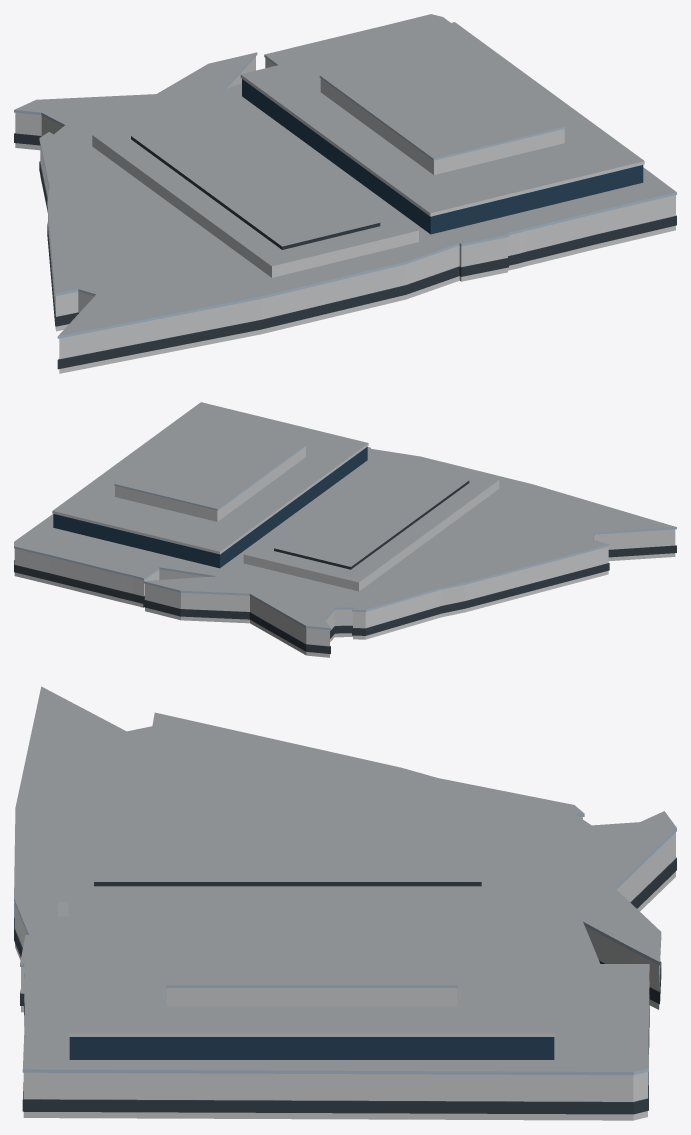
File: fontainebleau_resort_c_w134068317.glb
3 views of the same model, one above another, from view 1: azimuth 30°, elevation 25°; view 2: azimuth 150°, elevation 25°; view 3: azimuth 270°, elevation 25° (orthographic). The views are drawn at different scales.
Visible parts, largest first — view 1: Resort_w134068317; view 2: Resort_w134068317; view 3: Resort_w134068317.
Part boxes in pixels (x1,y1,x2,y2): Resort_w134068317: (14,14,676,373); Resort_w134068317: (14,402,676,657); Resort_w134068317: (14,686,676,1120).
Bounding box in the file's own units: 377 × 44.8 × 274.
